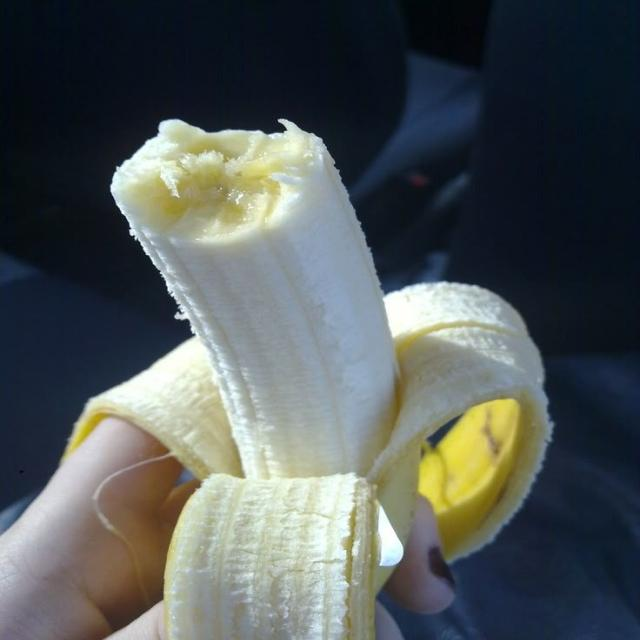banana: (68, 121, 549, 638), (113, 121, 396, 477), (419, 399, 519, 555)
